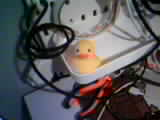duck: (60, 31, 102, 75)
